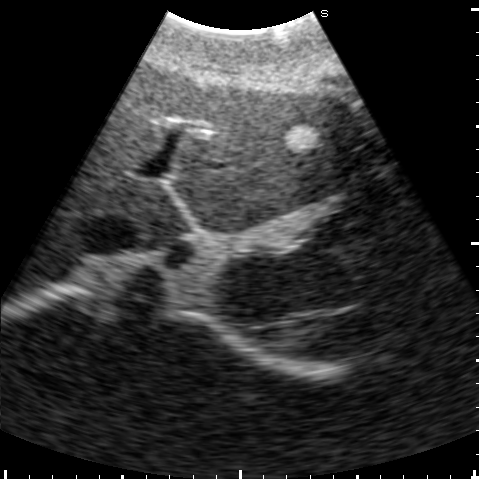IVC: (82, 212, 138, 253)
S1: (133, 186, 193, 251)
S2: (172, 144, 391, 235)
S3: (168, 84, 383, 189)
Tumor: (284, 125, 320, 153)
